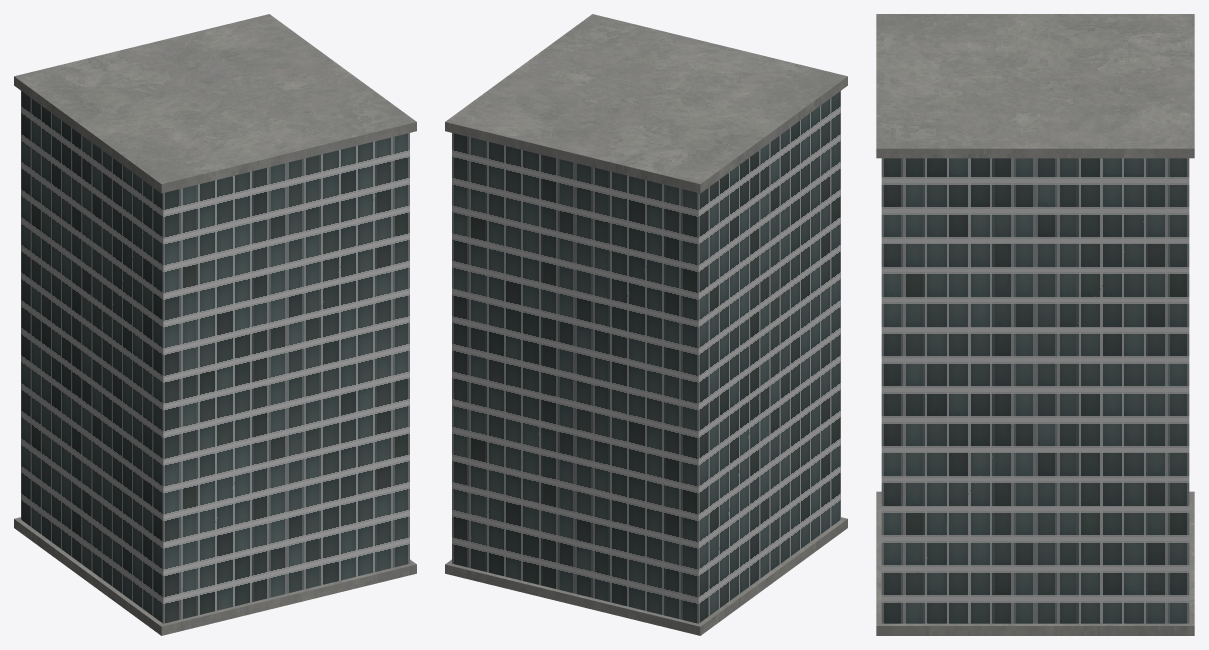
Rendered from building_03.2.glb.
3 views of the same model, side by side, from view 1: azimuth 30°, elevation 25°; view 2: azimuth 150°, elevation 25°; view 3: azimuth 270°, elevation 25° (orthographic). The views are drawn at different scales.
Parts seen in each view (by area): view 1: building_03_22; view 2: building_03_22; view 3: building_03_22.
Part boxes in pixels (bbox=[...]): building_03_22: bbox=[14, 14, 416, 635]; building_03_22: bbox=[445, 14, 847, 635]; building_03_22: bbox=[876, 14, 1194, 635].
Bounding box in the file's own units: 29 × 49 × 29.
1 material, 1 textured.
